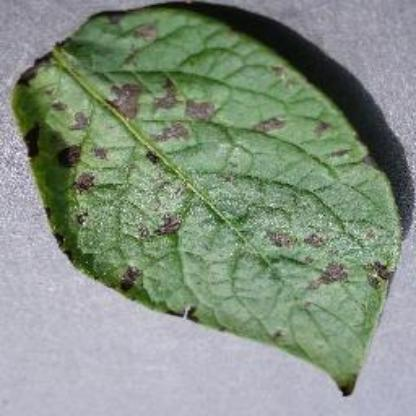Early-Blight: (11, 2, 405, 400)
